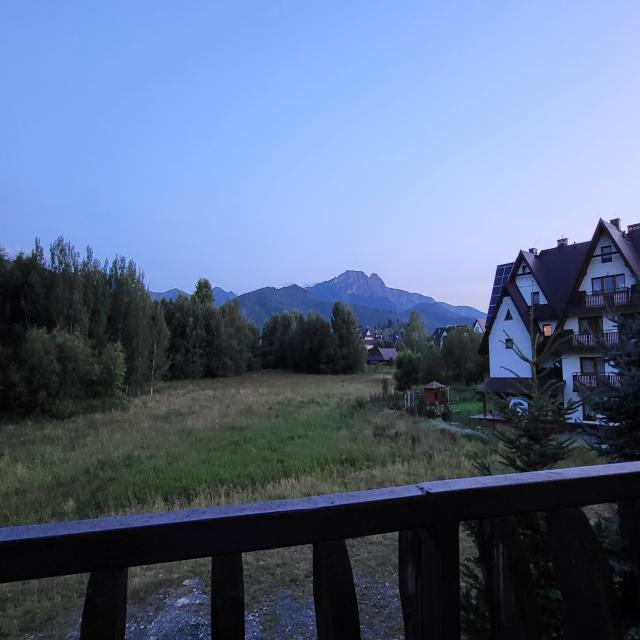Giewont: (304, 219, 444, 329)
